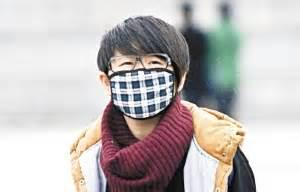OK: (113, 57, 176, 119)
